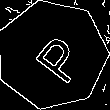P_NW: (20, 25, 84, 85)
